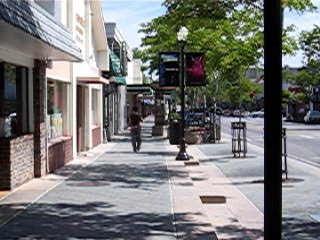person: (129, 106, 144, 153), (128, 106, 143, 153), (130, 106, 145, 153), (129, 105, 144, 152), (129, 107, 144, 154)
target_negative: (114, 96, 209, 214), (158, 28, 207, 204), (142, 49, 312, 68), (243, 214, 293, 231), (163, 228, 312, 231), (212, 126, 216, 184)
